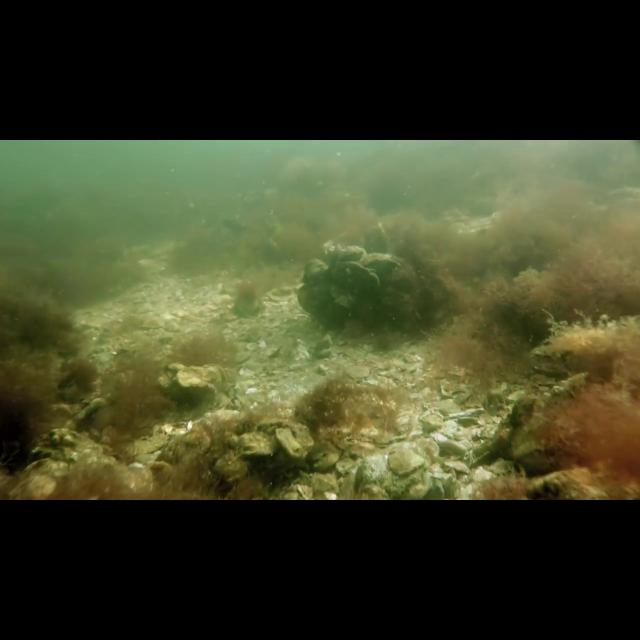Oyster-Closed: (334, 260, 380, 287), (358, 253, 401, 267), (327, 285, 351, 310), (337, 244, 366, 260)
